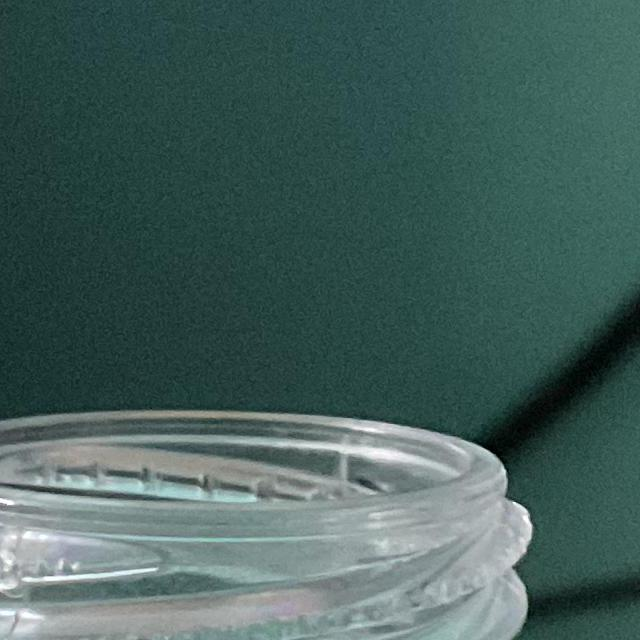open-cap: (0, 407, 566, 640)
